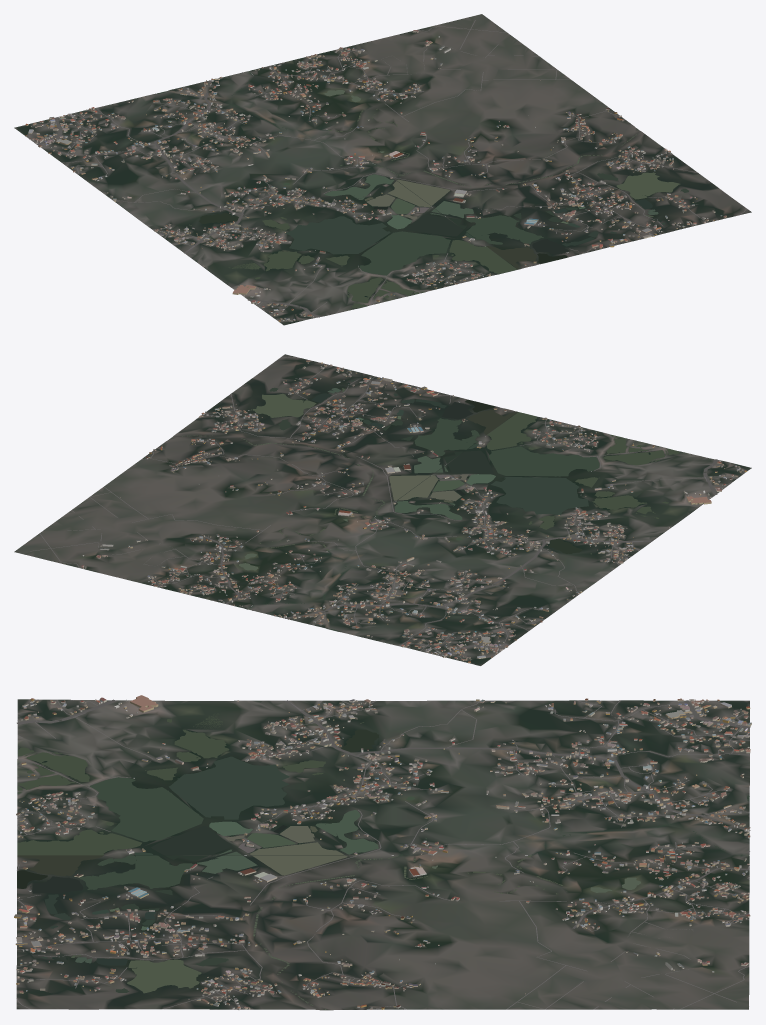
The picture shows the model from 3 angles, top to bottom: view 1: azimuth 30°, elevation 25°; view 2: azimuth 150°, elevation 25°; view 3: azimuth 270°, elevation 25°; orthographic projection. The views are drawn at different scales.
Parts seen in each view (by area): view 1: ground, water, buildings, roads; view 2: ground, water, buildings, roads; view 3: ground, water, buildings, roads.
Boxes of the visible parts, x1=… form: ground: x1=14, y1=14, x2=751, y2=325; water: x1=157, y1=71, x2=688, y2=308; buildings: x1=25, y1=30, x2=726, y2=321; roads: x1=32, y1=20, x2=746, y2=321; ground: x1=14, y1=354, x2=751, y2=665; water: x1=171, y1=380, x2=679, y2=631; buildings: x1=81, y1=360, x2=746, y2=663; roads: x1=30, y1=357, x2=744, y2=658; ground: x1=16, y1=699, x2=749, y2=1010; water: x1=17, y1=713, x2=749, y2=1009; buildings: x1=14, y1=695, x2=751, y2=1009; roads: x1=16, y1=699, x2=750, y2=1009.
Size of the model in its own units: 2837 by 18.36 by 2825.
